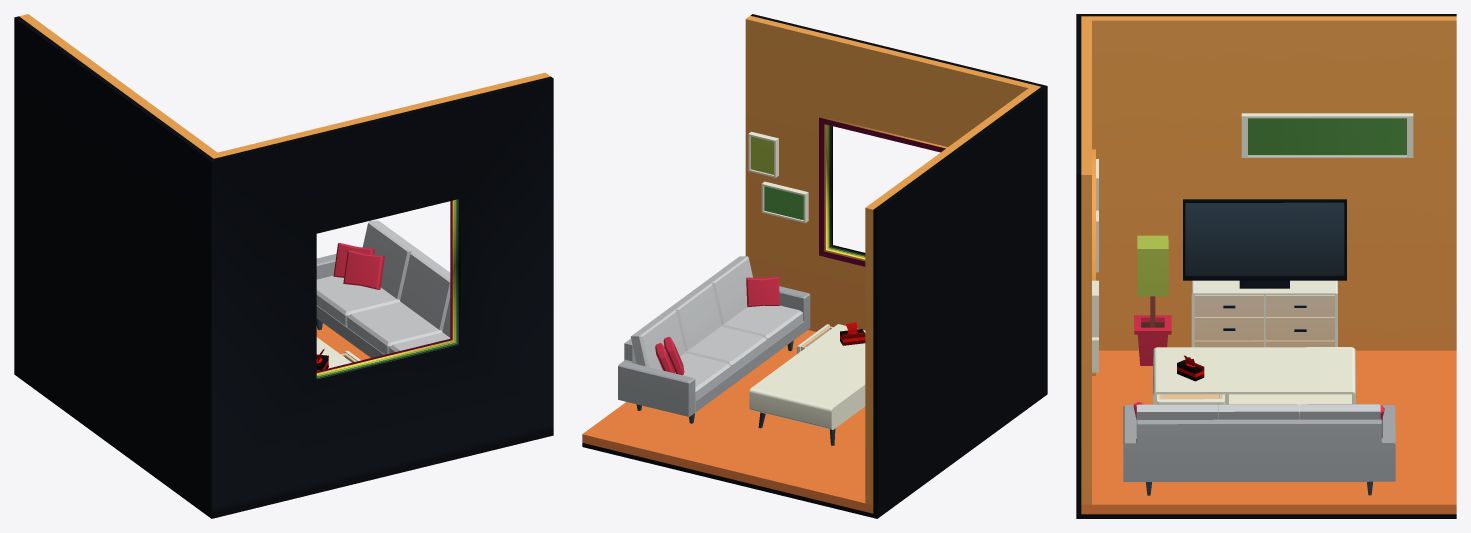
The model's file is living.glb.
3 renders of one model, left to right at view 1: azimuth 30°, elevation 25°; view 2: azimuth 150°, elevation 25°; view 3: azimuth 270°, elevation 25°, orthographic. The views are drawn at different scales.
Parts seen in each view (by area): view 1: Walls, Cushion_Bottom2, Cushion_Top2, Cushion_Bottom1, Cushion_Top1, Cushion_Top5, Frame_Bottom; view 2: Walls, Table_Body, Frame_Back, Cushion_Top2, Cushion_Bottom2, Cushion_Bottom3, Cushion_Top3, Cushion_Top1, Picture4, Cushion_Bottom1, Frame_Bottom, Picture (+1 smaller); view 3: Walls, Frame_Back, TV, Table_Body, Dresser, Picture6, pCube11.002, pCube9.002, Cushion_Top3, Cushion_Top1, Cushion_Top2, Drawer.001 (+1 smaller).
Boxes of the visible parts, <box> form: Walls: <box>14,14,553,518</box>; Cushion_Bottom2: <box>347,302,442,354</box>; Cushion_Top2: <box>400,251,450,330</box>; Cushion_Bottom1: <box>316,275,400,325</box>; Cushion_Top1: <box>362,220,420,299</box>; Cushion_Top5: <box>343,250,384,289</box>; Frame_Bottom: <box>316,305,384,357</box>; Walls: <box>582,14,1047,518</box>; Table_Body: <box>749,324,865,429</box>; Frame_Back: <box>618,286,810,416</box>; Cushion_Top2: <box>667,283,721,351</box>; Cushion_Bottom2: <box>685,326,766,373</box>; Cushion_Bottom3: <box>721,305,802,347</box>; Cushion_Top3: <box>704,256,752,324</box>; Cushion_Top1: <box>630,309,685,369</box>; Picture4: <box>761,181,808,223</box>; Cushion_Bottom1: <box>662,353,730,400</box>; Frame_Bottom: <box>695,321,804,412</box>; Picture: <box>748,131,778,177</box>; Walls: <box>1076,14,1456,518</box>; Frame_Back: <box>1123,405,1395,481</box>; TV: <box>1183,199,1346,288</box>; Table_Body: <box>1153,347,1355,415</box>; Dresser: <box>1191,280,1337,347</box>; Picture6: <box>1241,113,1413,157</box>; pCube11.002: <box>1137,235,1168,296</box>; pCube9.002: <box>1134,315,1171,365</box>; Cushion_Top3: <box>1136,404,1217,437</box>; Cushion_Top1: <box>1299,404,1380,419</box>; Cushion_Top2: <box>1218,404,1299,419</box>; Drawer.001: <box>1157,394,1224,418</box>.
Size of the model in its own units: 3.65 by 3.64 by 3.65.
Materials: 1 (1 with a texture image).
